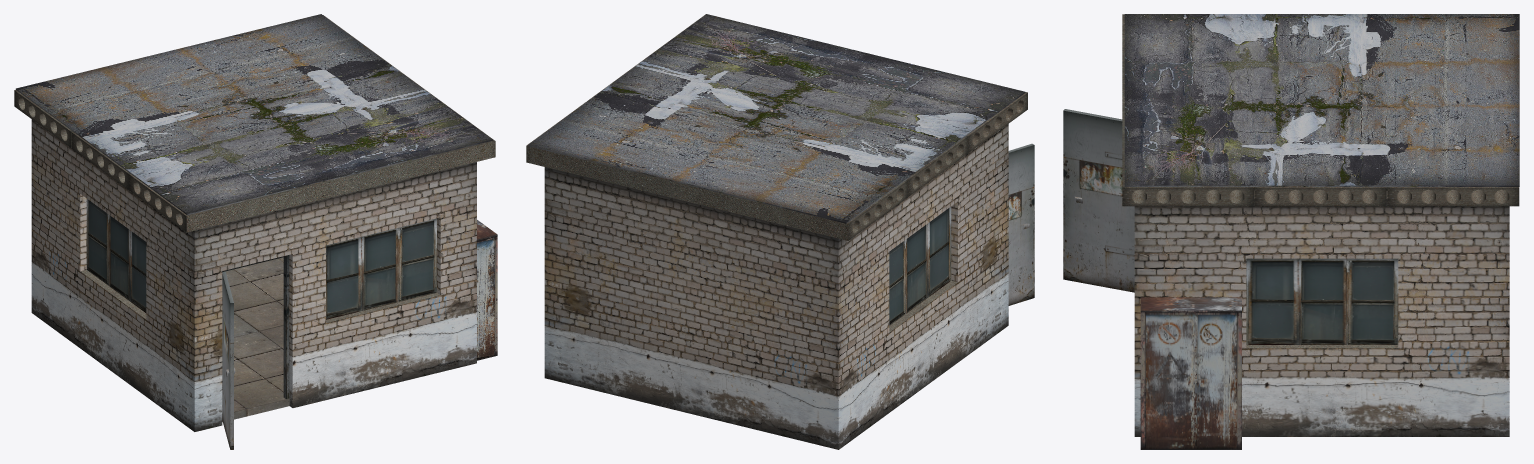
File: budka13022021.FBX
3 views of the same model, side by side, from view 1: azimuth 30°, elevation 25°; view 2: azimuth 150°, elevation 25°; view 3: azimuth 270°, elevation 25° (orthographic). The views are drawn at different scales.
Parts seen in each view (by area): view 1: Box007; view 2: Box007; view 3: Box007.
Boxes of the visible parts, bbox=[...] form: Box007: bbox=[14, 14, 497, 449]; Box007: bbox=[526, 14, 1034, 449]; Box007: bbox=[1063, 14, 1519, 449].
Size of the model in its own units: 4.52 by 3.04 by 4.87.
Materials: 1 (1 with a texture image).
